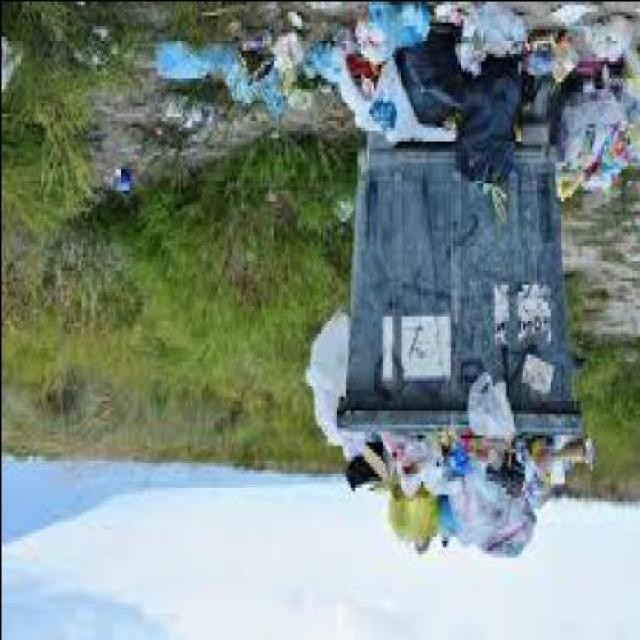PLASTIC: (335, 59, 454, 150), (452, 66, 519, 217), (301, 315, 365, 451), (444, 468, 533, 564), (396, 21, 461, 125), (452, 3, 526, 85), (556, 73, 619, 161), (463, 374, 512, 448), (382, 437, 436, 500), (515, 31, 579, 84), (386, 493, 436, 556), (151, 31, 207, 87), (594, 104, 637, 176), (365, 3, 426, 49), (426, 441, 466, 507), (521, 441, 554, 521), (582, 18, 630, 70), (340, 441, 382, 499), (248, 60, 280, 118), (352, 18, 388, 67), (223, 56, 254, 106), (200, 39, 234, 84), (547, 441, 587, 479), (298, 42, 334, 84), (540, 4, 594, 31), (574, 158, 612, 196), (268, 31, 298, 77), (277, 80, 317, 114), (616, 56, 638, 106), (552, 165, 579, 203), (324, 29, 356, 56), (237, 32, 268, 59), (435, 500, 451, 552), (463, 448, 500, 469), (442, 448, 467, 478), (431, 4, 458, 31), (0, 35, 12, 93), (514, 81, 538, 108), (510, 442, 528, 476), (114, 170, 133, 194), (282, 10, 298, 32)
